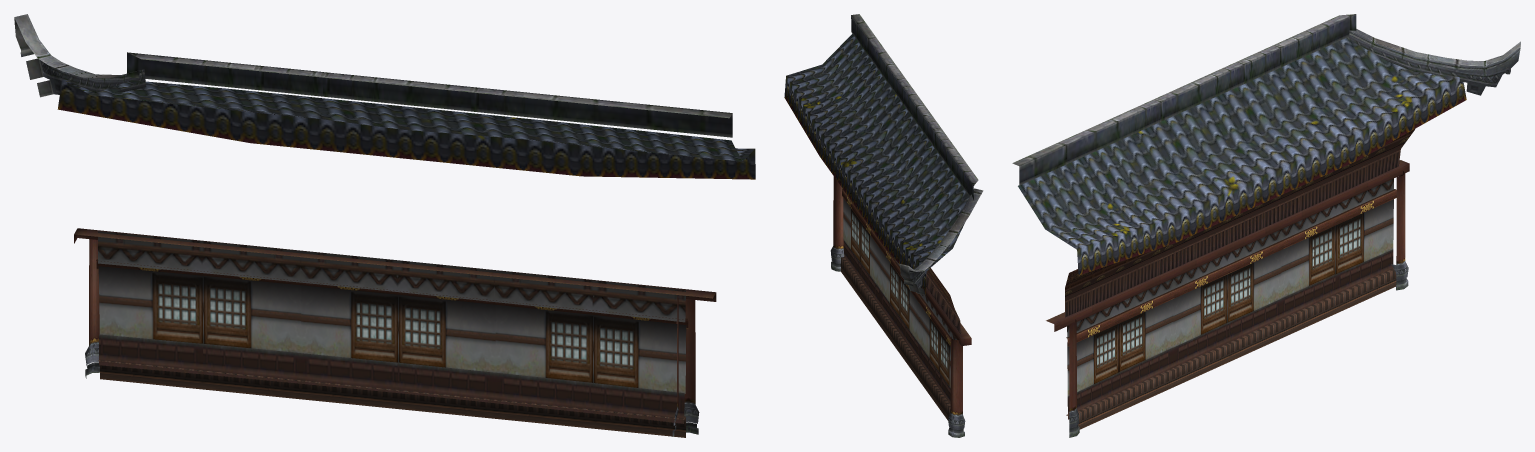
The model's file is S2_Build_XSC059_H1.FBX.
3 renders of one model, left to right at view 1: azimuth 30°, elevation 25°; view 2: azimuth 150°, elevation 25°; view 3: azimuth 270°, elevation 25°, orthographic. The views are drawn at different scales.
Parts seen in each view (by area): view 1: S2_Build_XSC059_H1; view 2: S2_Build_XSC059_H1; view 3: S2_Build_XSC059_H1.
Boxes of the visible parts, bbox=[...] form: S2_Build_XSC059_H1: bbox=[14, 14, 755, 437]; S2_Build_XSC059_H1: bbox=[784, 14, 983, 437]; S2_Build_XSC059_H1: bbox=[1012, 14, 1520, 437].
Size of the model in its own units: 9189 by 6351 by 10701.
